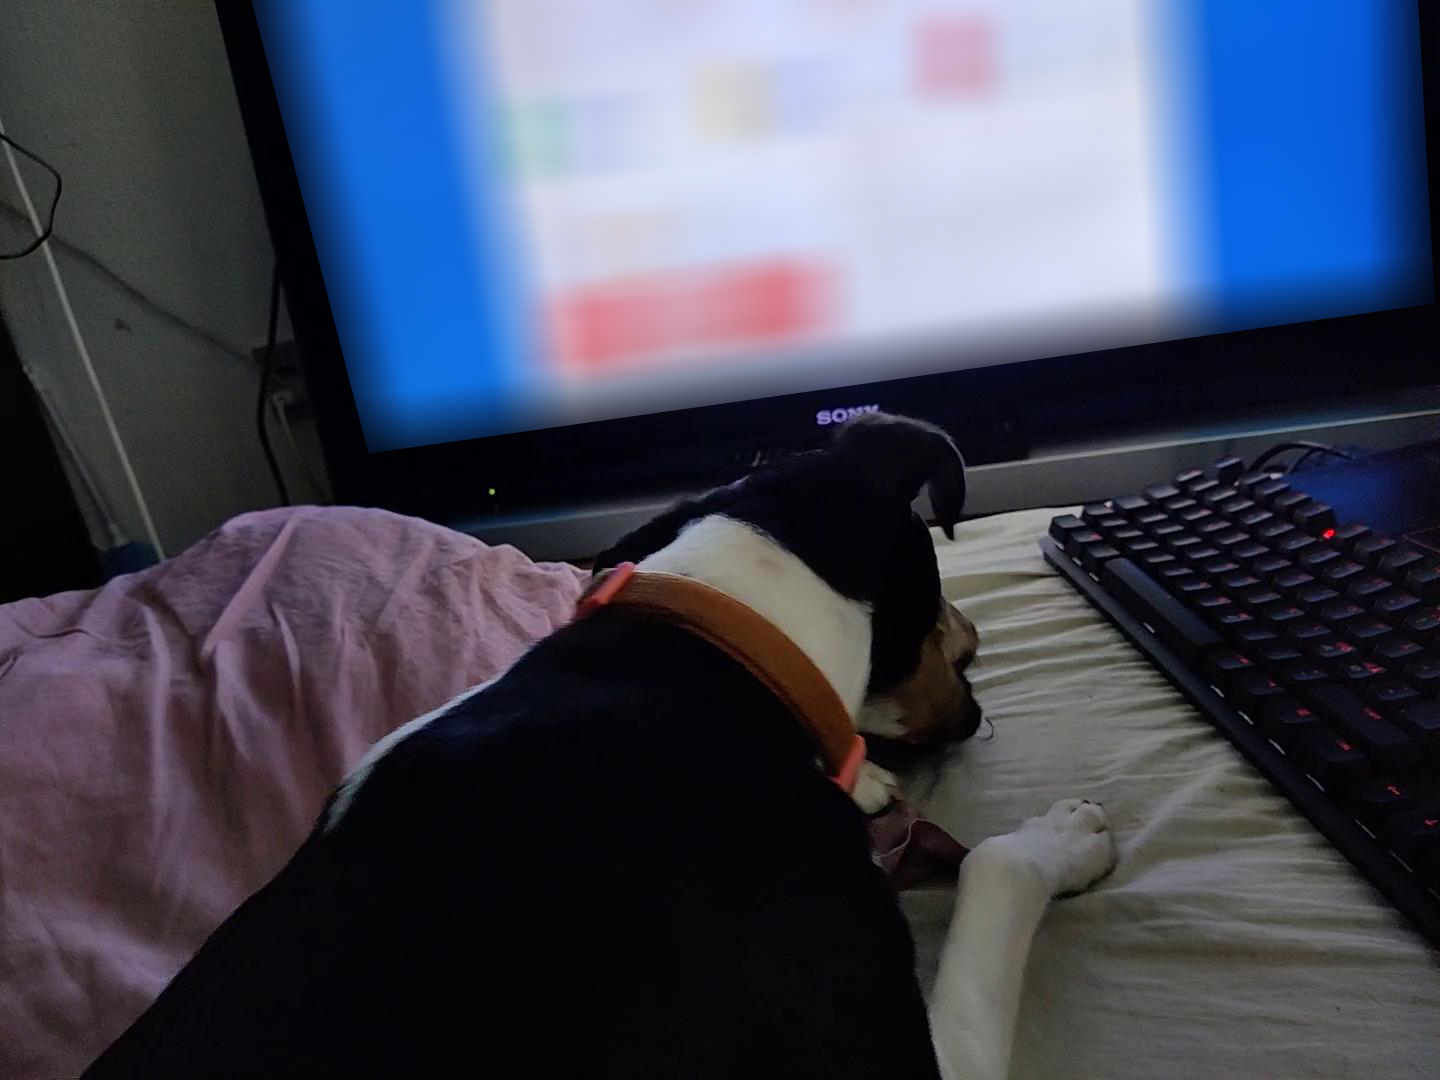Dog: (69, 405, 1121, 1079)
